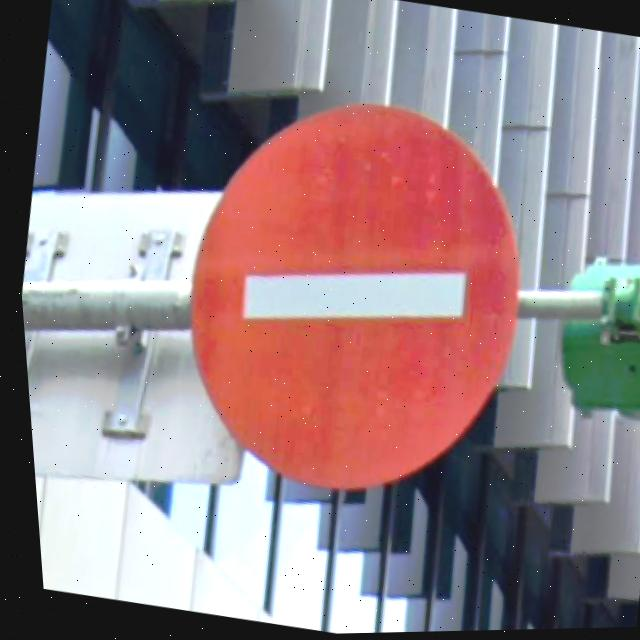noentry: (141, 69, 562, 526)
